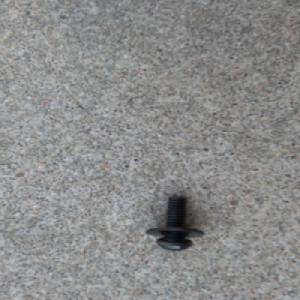BoltWasher: (142, 194, 205, 251)
